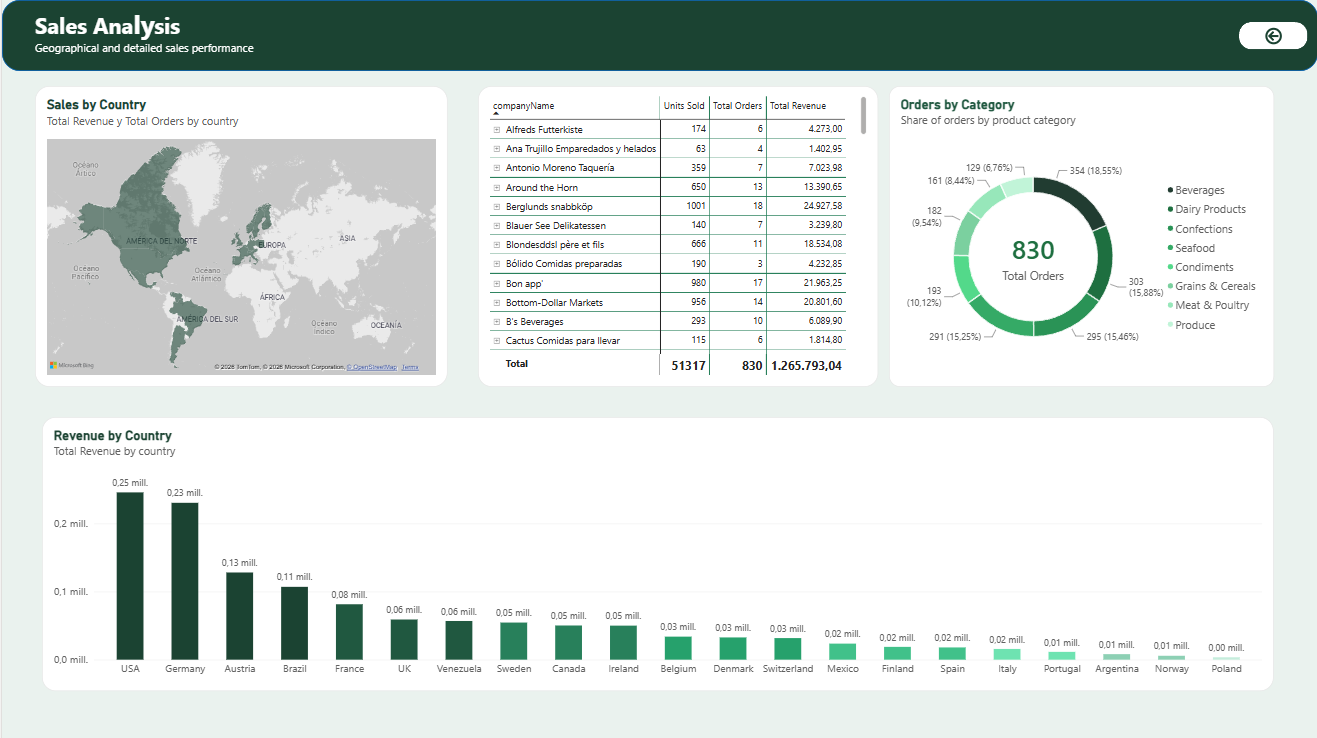

This screenshot's page, from the dashboard's own definition file:
{"tool":"powerbi","page":{"name":"Sales Analysis","canvas":[1920,1080],"ordinal":1},"visuals":[{"type":"shape","box":[0,0,1920,103.6],"z":0},{"type":"textbox","box":[48.1,10.2,995,83.2],"z":1000},{"type":"filledMap","title":"Sales by Country","fields":{"Category":["dim_customers.country"]},"box":[48.2,125.6,601.6,439.5],"z":2000},{"type":"clusteredColumnChart","title":"Revenue by Country","fields":{"Category":["dim_customers.country"],"Y":["_Measures.Total Revenue"]},"box":[58.4,608.9,1797.4,400.1],"z":3000},{"type":"pivotTable","fields":{"Rows":["dim_customers.companyName","dim_products.productName"],"Values":["_Measures.Units Sold","_Measures.Total Orders","_Measures.Total Revenue"]},"box":[695,125.6,584,439.5],"z":4000},{"type":"donutChart","title":"Orders by Category","fields":{"Category":["dim_categories.categoryName"],"Y":["_Measures.Orders from Details"]},"box":[1294.1,125.5,561.7,439.1],"z":5000},{"type":"actionButton","box":[1804.7,32.1,100,40],"z":5002}]}

Visuals, with their boxes in screenshot pixels (x1, y1, x2, y2), scaled from the page's 1920x1080 canvas onto the 1317x738 screenshot:
shape: {"left": 0, "top": 0, "right": 1316, "bottom": 71}
textbox: {"left": 33, "top": 7, "right": 716, "bottom": 64}
"Sales by Country" filledMap: {"left": 33, "top": 86, "right": 446, "bottom": 386}
"Revenue by Country" clusteredColumnChart: {"left": 40, "top": 416, "right": 1273, "bottom": 689}
pivotTable - dim_customers.companyName x dim_products.productName: {"left": 477, "top": 86, "right": 877, "bottom": 386}
"Orders by Category" donutChart: {"left": 888, "top": 86, "right": 1273, "bottom": 386}
actionButton: {"left": 1238, "top": 22, "right": 1307, "bottom": 49}
